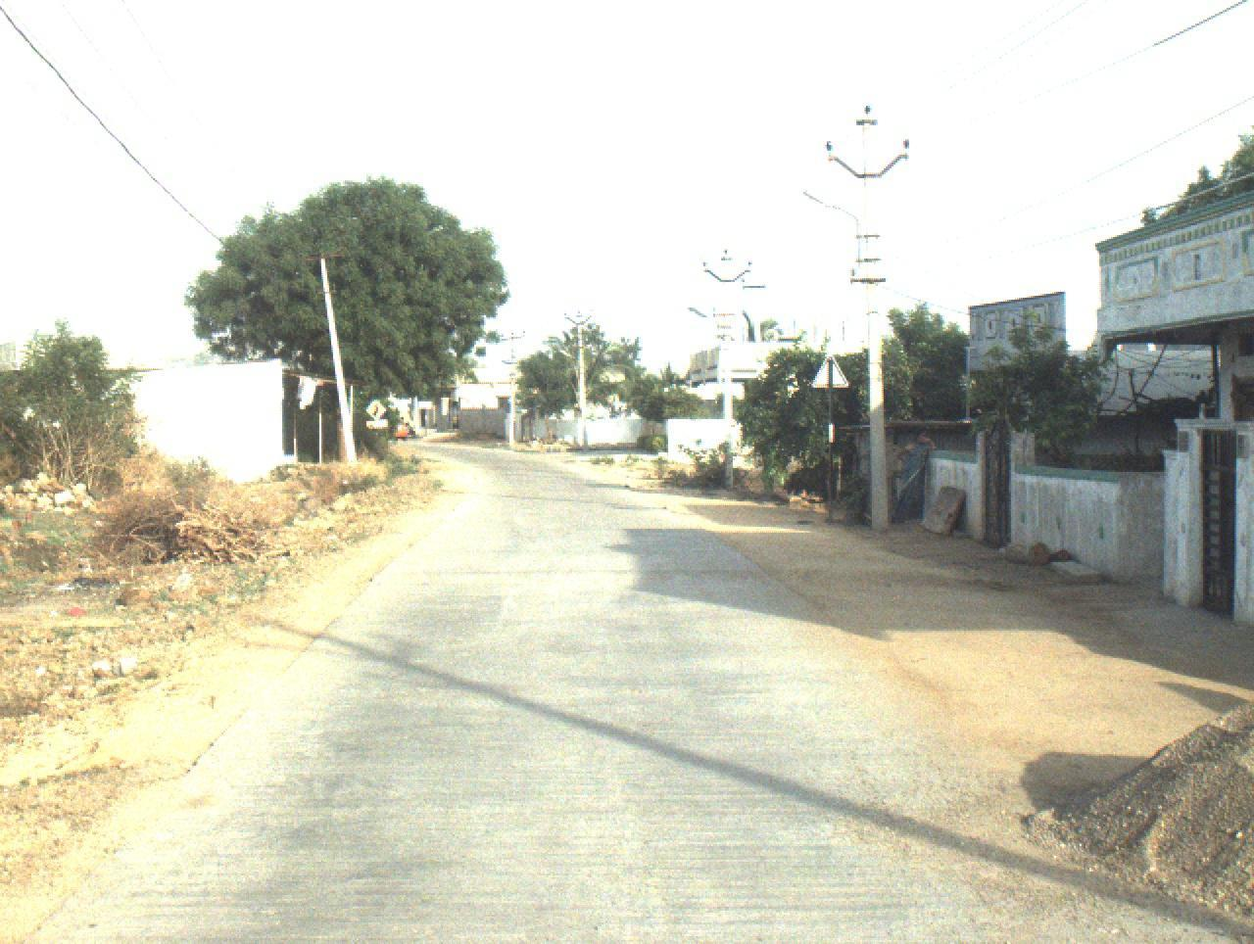streetlight: (801, 187, 882, 270), (686, 307, 734, 347)
